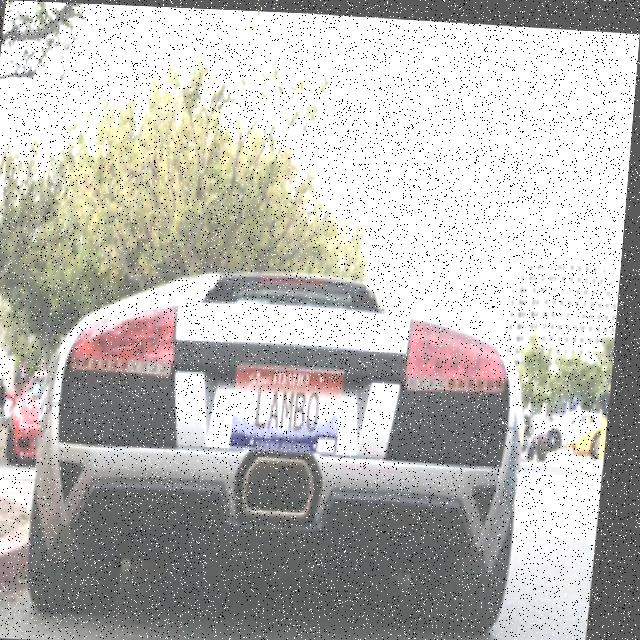license_plate: (234, 359, 348, 451)
